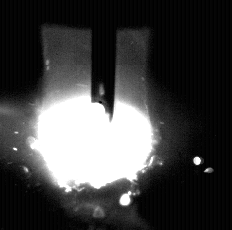arame: (92, 0, 116, 122)
poca: (36, 0, 154, 230)
